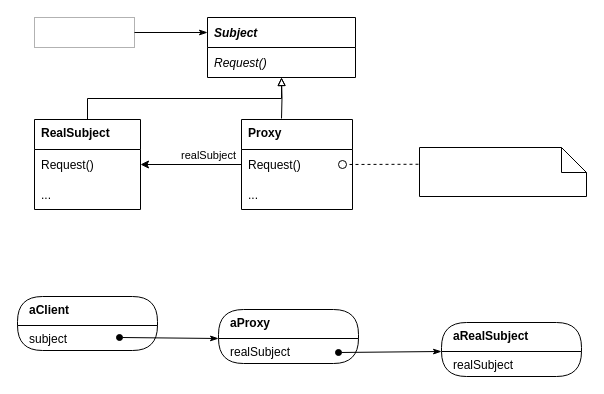
Some shapes in this 604 by 394 pixel diagram are drawn without their labels. Here are the shapes that lost their labels. From the top down, the centre of each, then its label:
At (84,32): "Client".
At (502,171): "... realSubject->Request(); ...".
